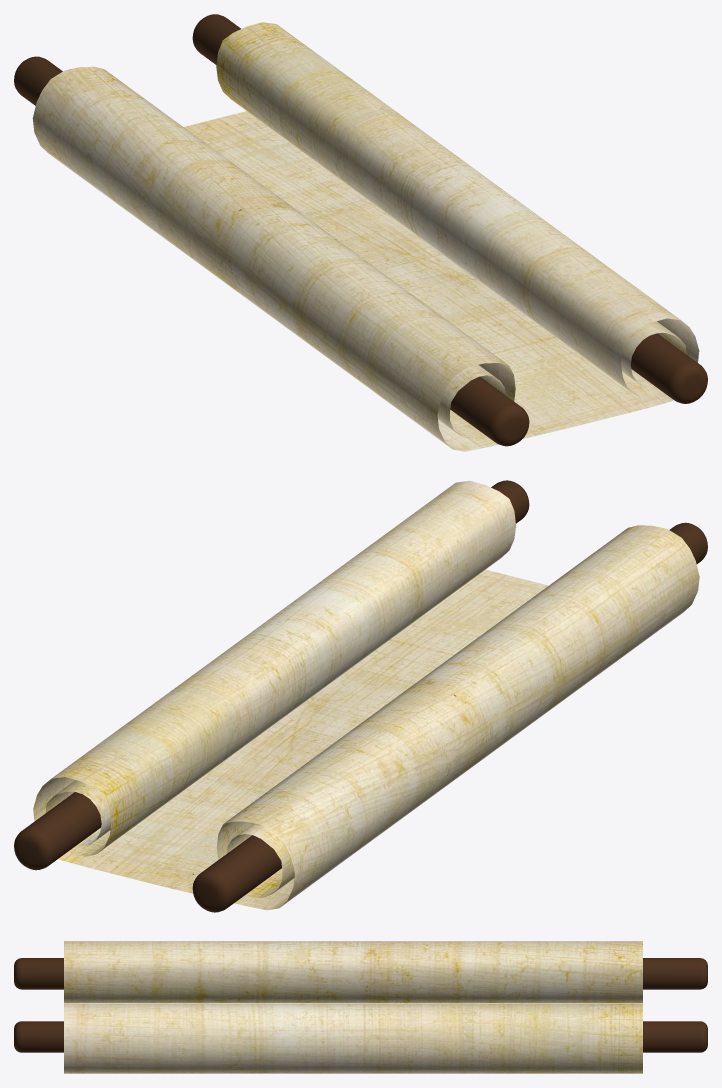
Rendered from paperScrollDone.glb.
The picture shows the model from 3 angles, top to bottom: view 1: azimuth 30°, elevation 25°; view 2: azimuth 150°, elevation 25°; view 3: azimuth 270°, elevation 25°; orthographic projection. The views are drawn at different scales.
Parts seen in each view (by area): view 1: BézierCurve, Cylinder.001, Cylinder; view 2: BézierCurve, Cylinder.001, Cylinder; view 3: BézierCurve, Cylinder, Cylinder.001.
Boxes of the visible parts, box(x1,y1,x2,y2) form: BézierCurve: box(32, 22, 699, 451); Cylinder.001: box(192, 14, 707, 403); Cylinder: box(14, 56, 529, 446); BézierCurve: box(33, 480, 699, 910); Cylinder.001: box(14, 480, 529, 870); Cylinder: box(192, 522, 707, 912); BézierCurve: box(64, 941, 642, 1073); Cylinder: box(14, 958, 707, 989); Cylinder.001: box(14, 1021, 707, 1052).
Bounding box in the file's own units: 1.37 × 0.429 × 4.4.
2 materials, 1 textured.
